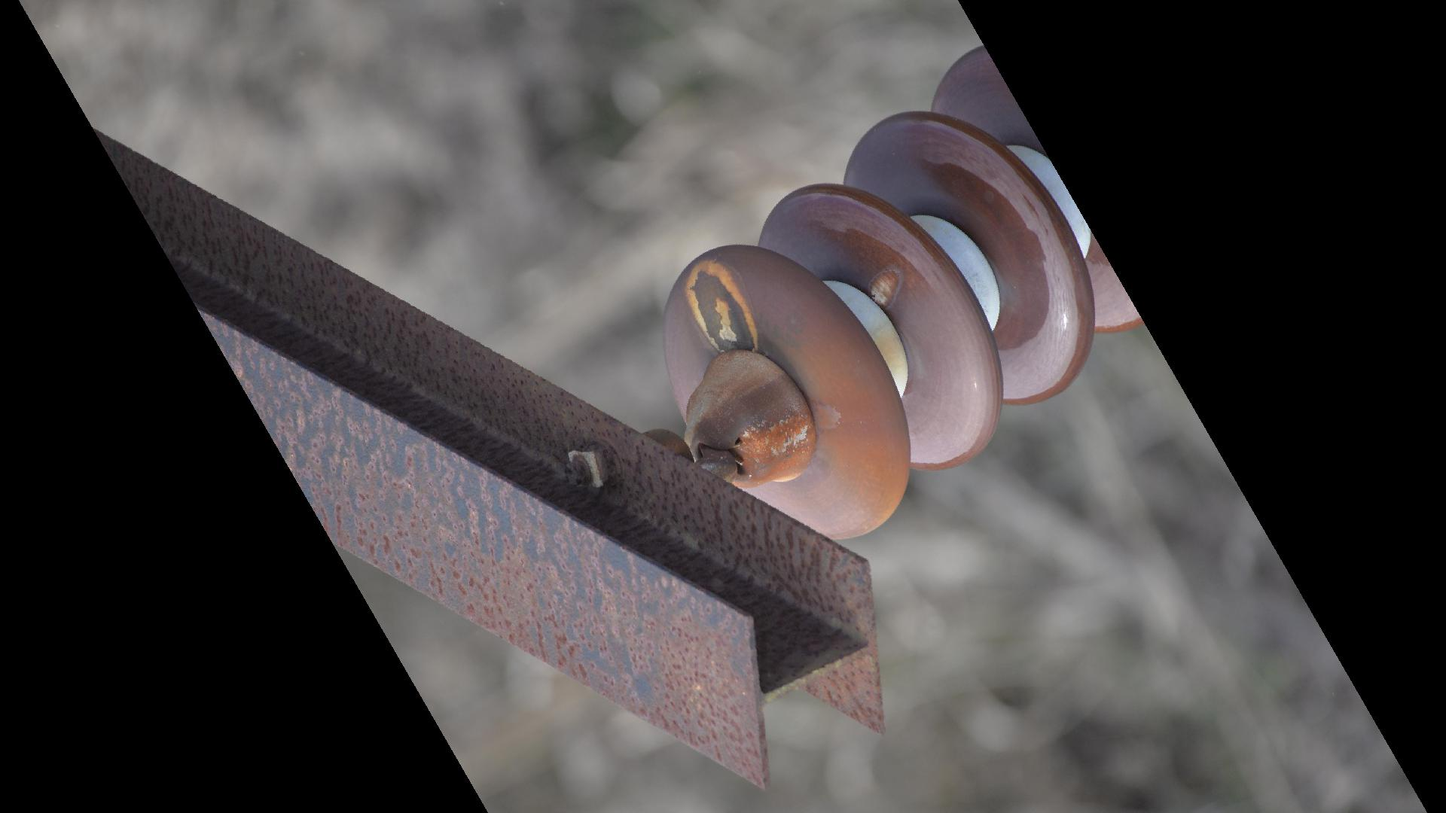insulator: (653, 39, 1143, 547)
insulator_flashover: (682, 255, 763, 358), (865, 260, 909, 307)
